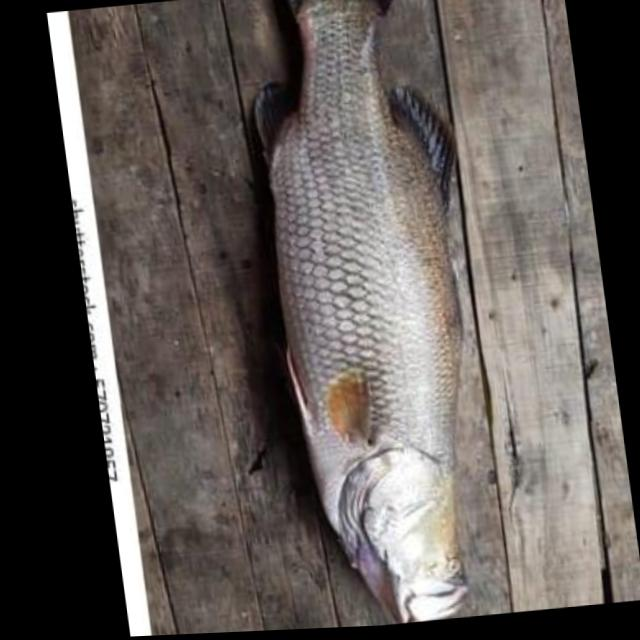Seabass: (233, 0, 520, 630)
